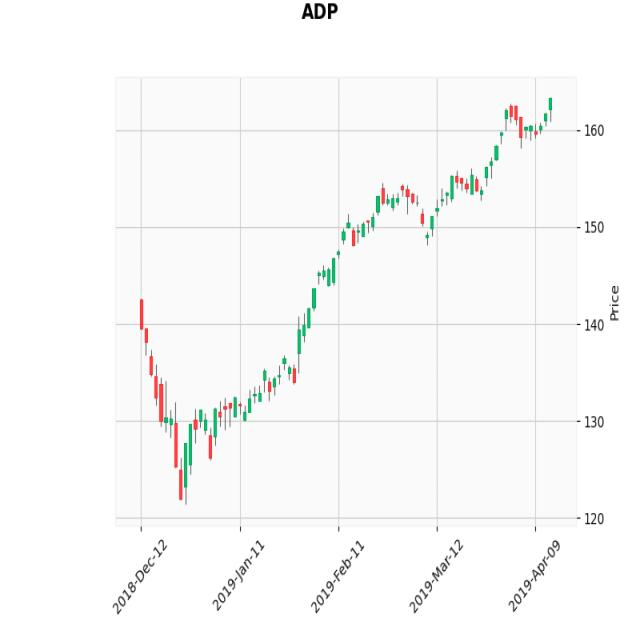Inverse-Head-Shoulders: (148, 338, 232, 508)
